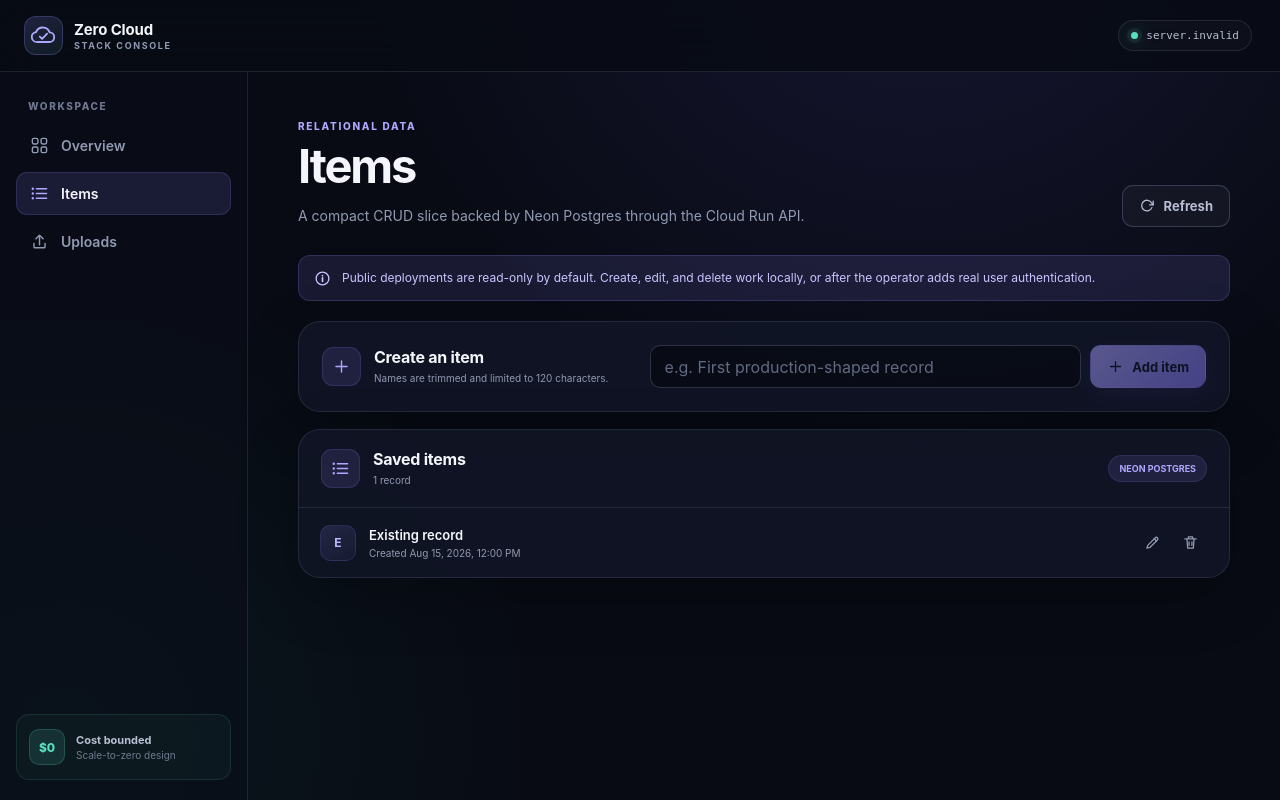
Test: App › loads items and surfaces the production read-only response
Check: the text "Existing record" is shown, box [369,527,463,543]
Type "Protected record" into the field named "Item name". click: point(866, 367)
box: [650,345,1081,388]
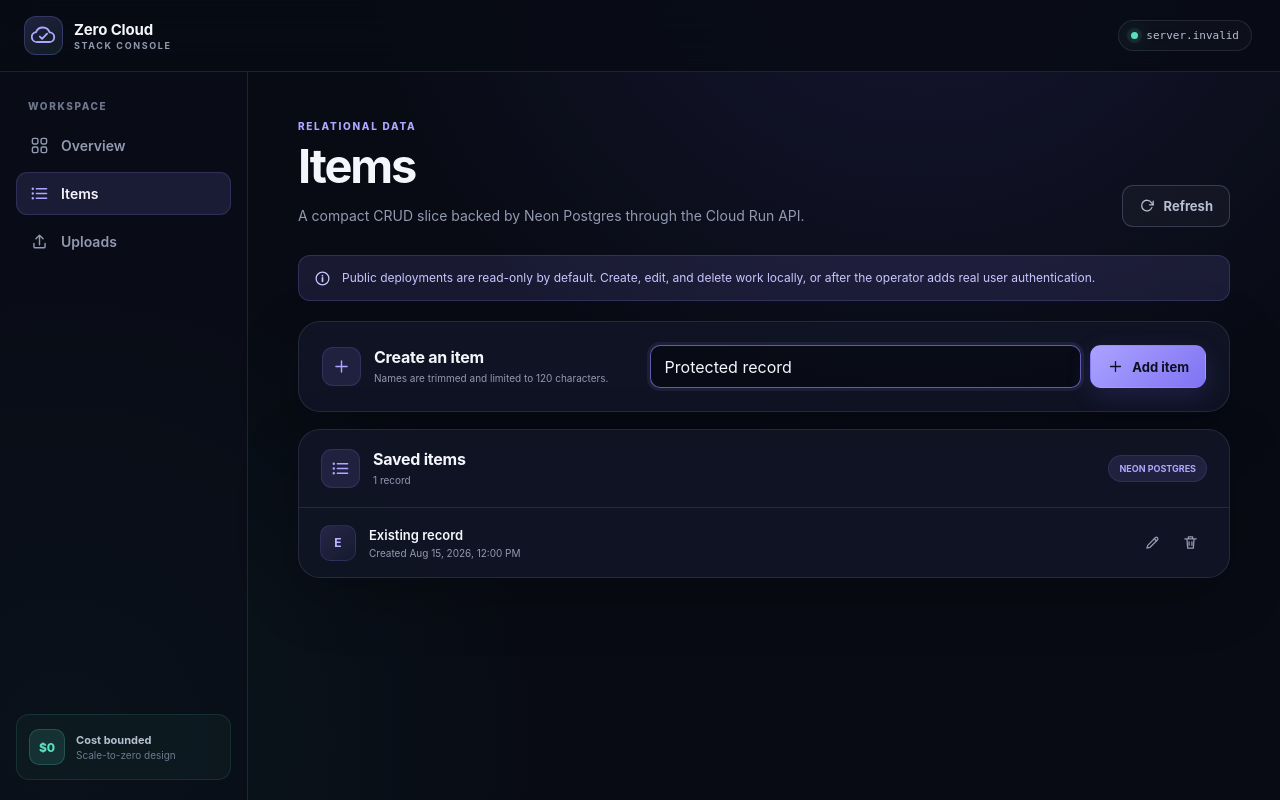
Click the button "Add item". click: point(1148, 367)
box: [1090,345,1206,388]
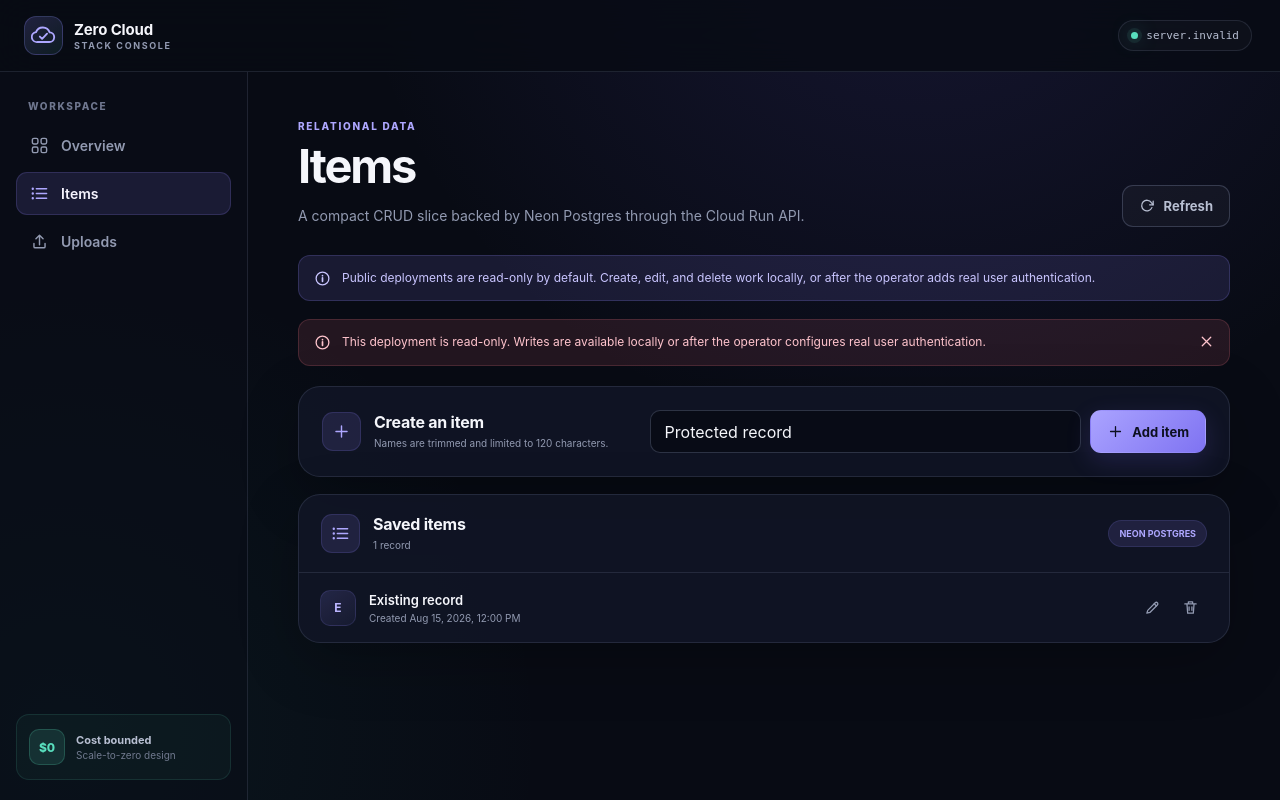
Check: the text "This deployment is read-only" is shown, box [342,334,986,349]
